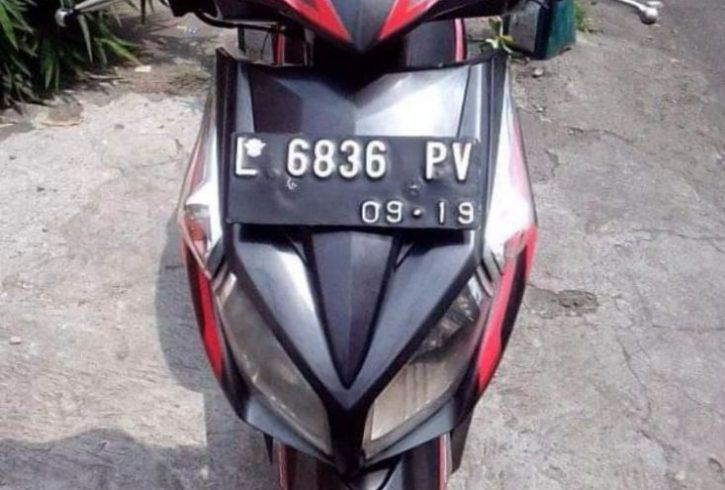placa de veiculo: (191, 108, 527, 259)
